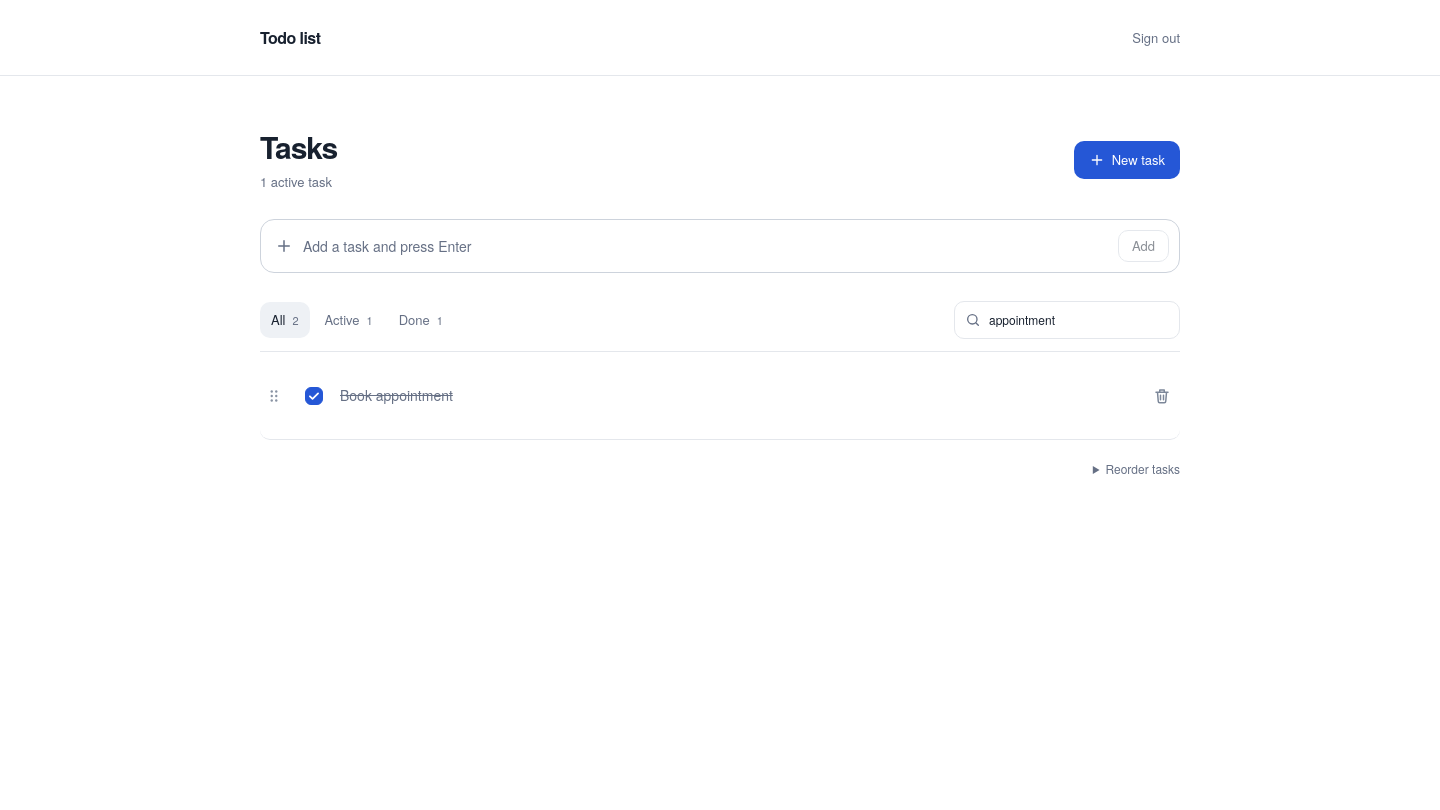
task list › confirms hidden quick additions and links to the created task at /tasks?q=appointment
Expected: the text "Book appointment" is shown, [340,385,453,405]
Type "Buy milk" into the field named "New task title" at (706, 246), box [303,230,1108,262]
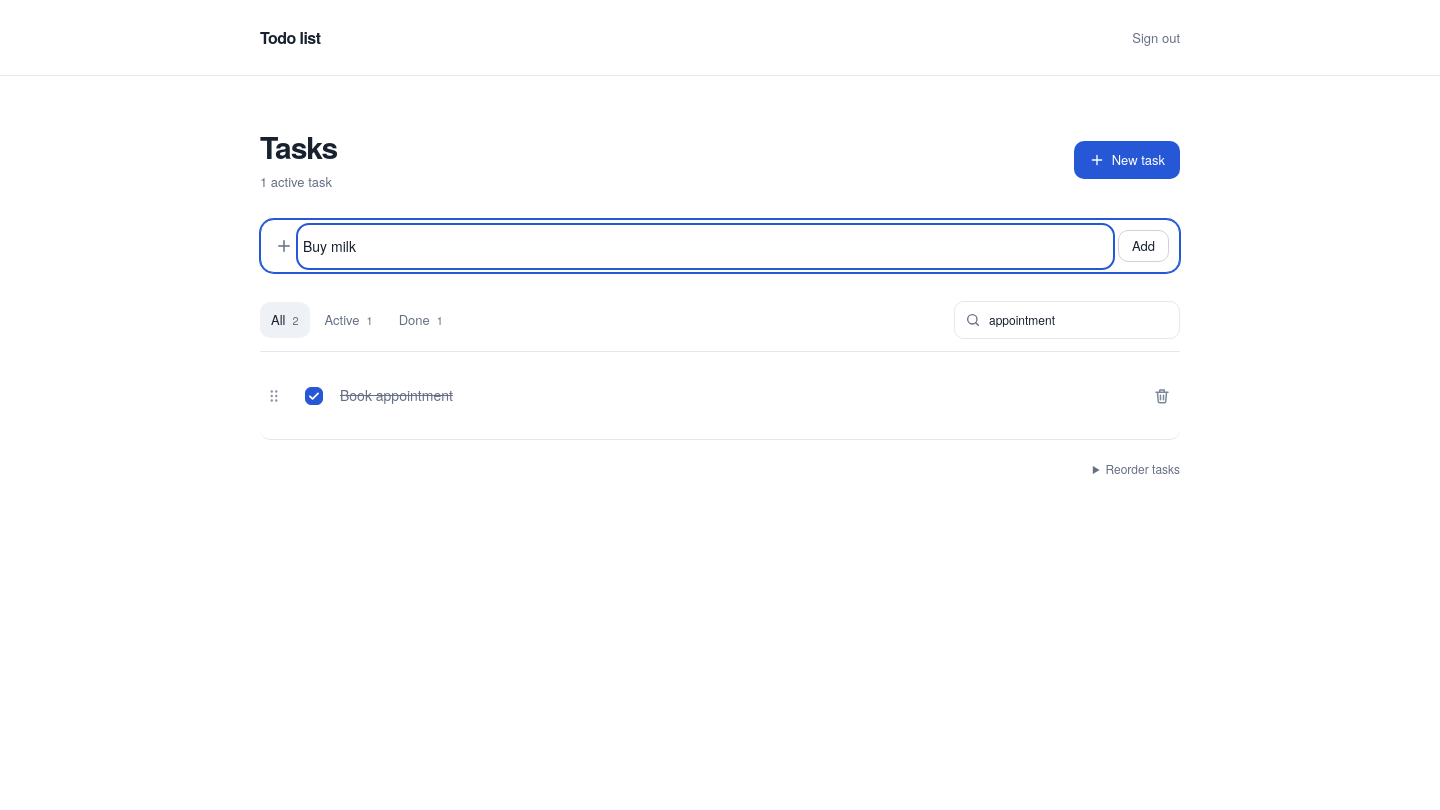
Click the button "Add" at (1144, 246), box [1118,230,1169,262]
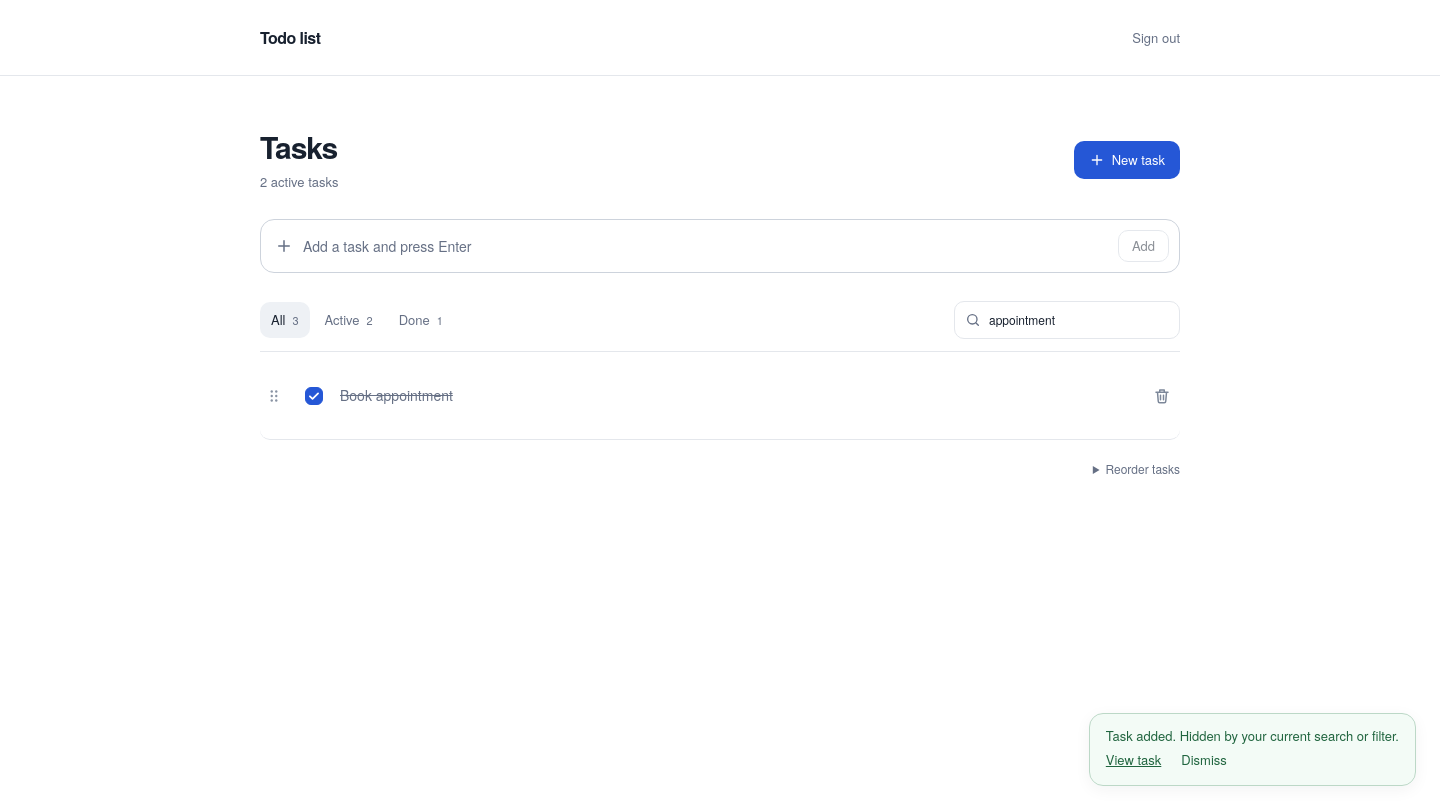
Expected: the link "Buy milk" is not shown
Expected: the text "Task added. Hidden by your current search or filter." is shown, [1106,726,1399,746]
Click the link "View task" at (1134, 759), box [1106,750,1161,768]
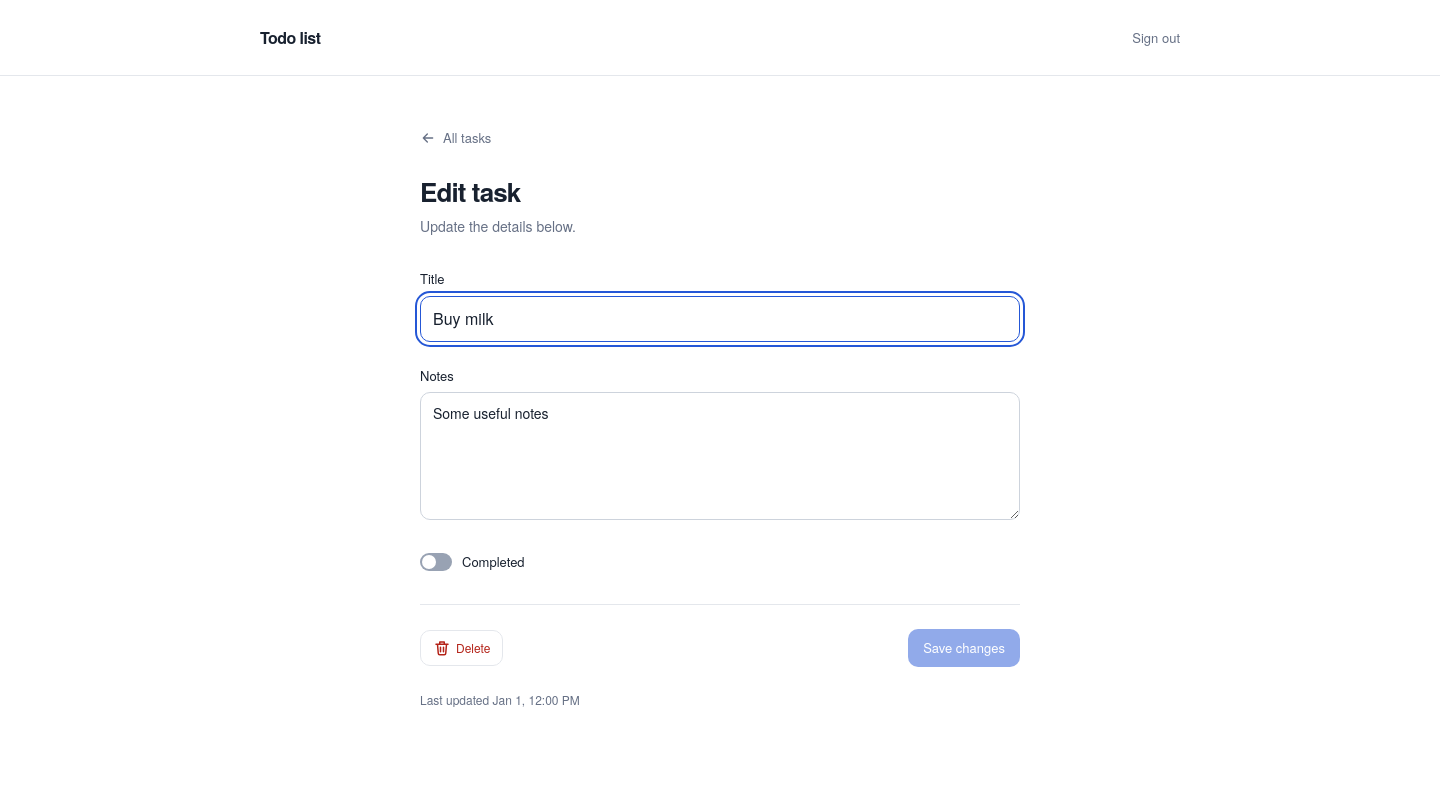
Expected: the field showing "Buy milk" is shown, [420,296,1020,342]
Expected: the text "Task added. Hidden by your current search or filter." is gone
Click the link "All tasks" at (456, 138), box [420,128,491,148]
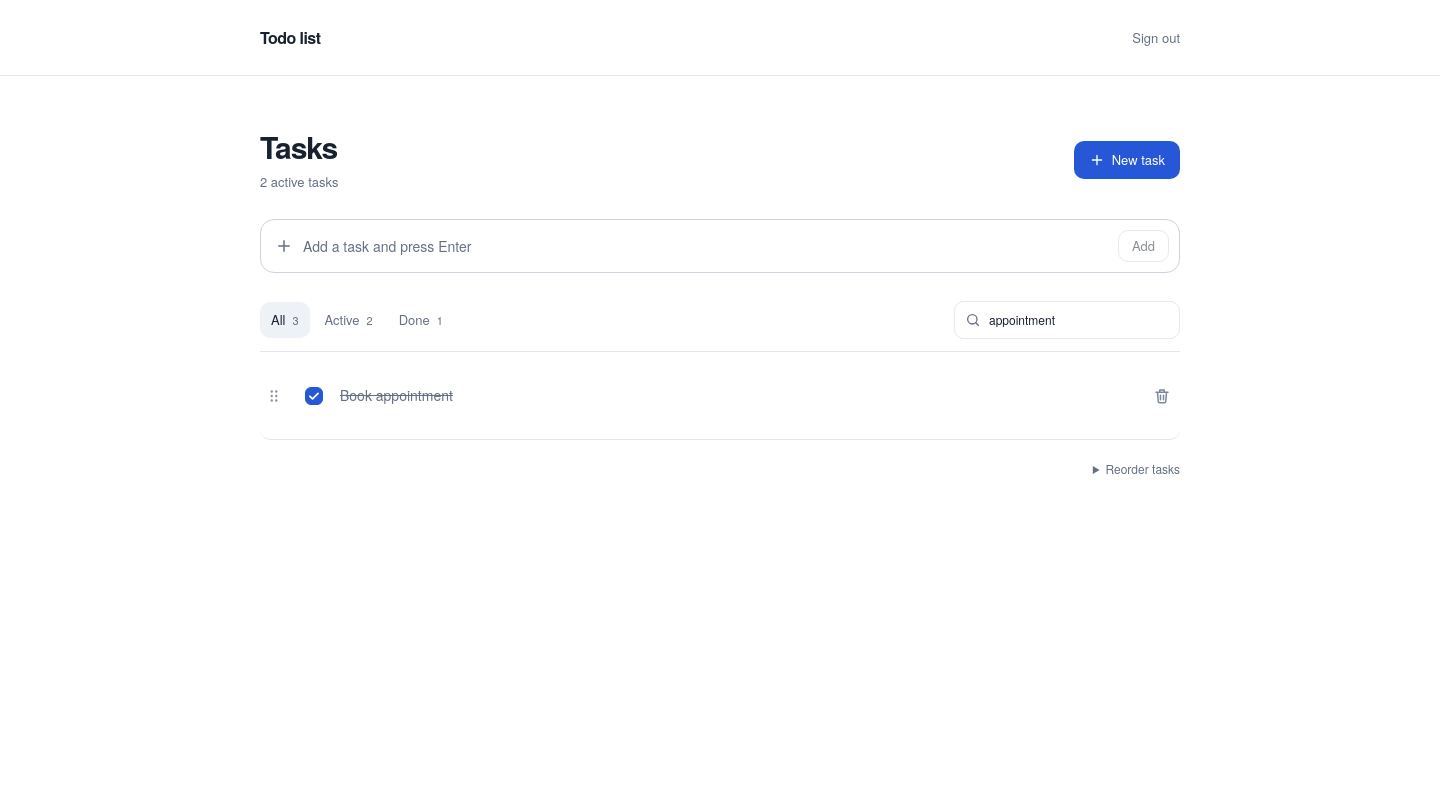
Expected: the heading "Tasks" is shown, [260,128,338,166]
Expected: the search field named "Search tasks" holds "appointment", [989,302,1169,338]
